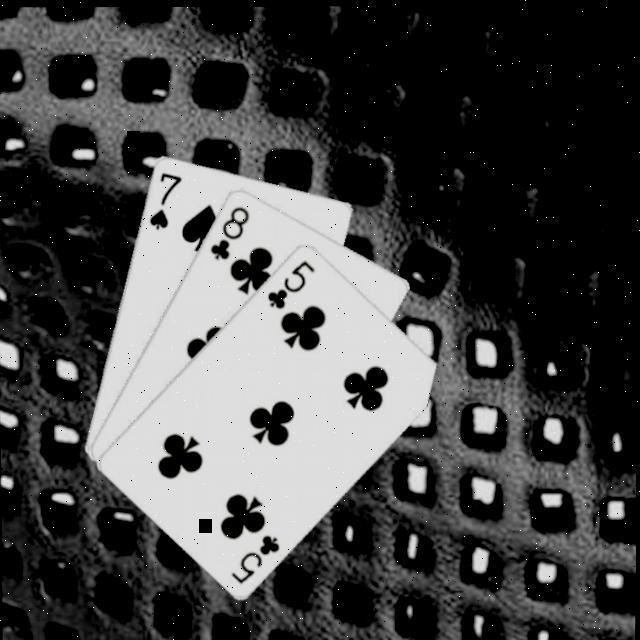5C: (228, 529, 285, 587), (264, 255, 319, 312)
7S: (146, 168, 187, 232)
8C: (206, 200, 254, 262)
